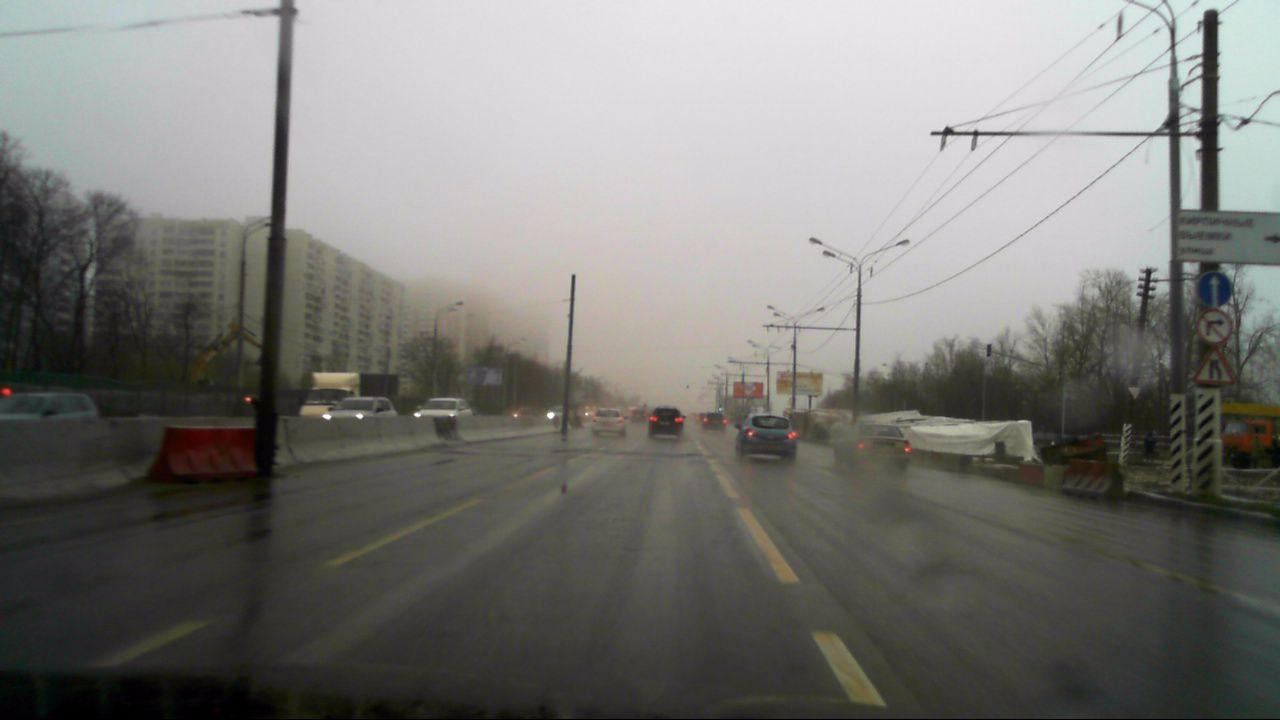1_20_2: (1195, 346, 1235, 384)
2_4: (1125, 385, 1142, 399)
3_18_1: (1196, 310, 1232, 344)
4_1_1: (1196, 271, 1233, 308)
